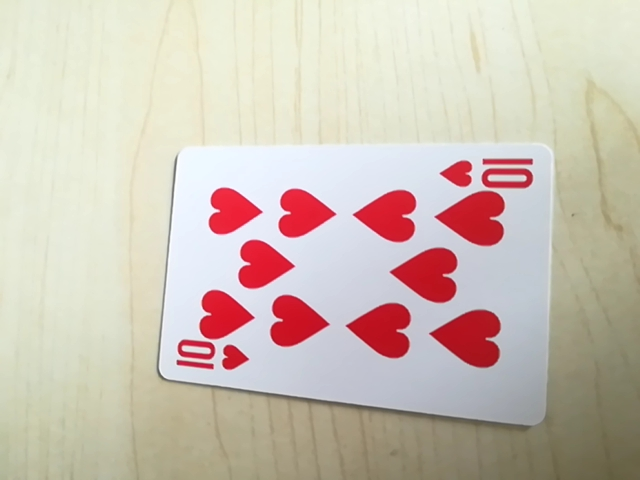hx 10: (437, 151, 541, 192), (169, 339, 252, 381)
